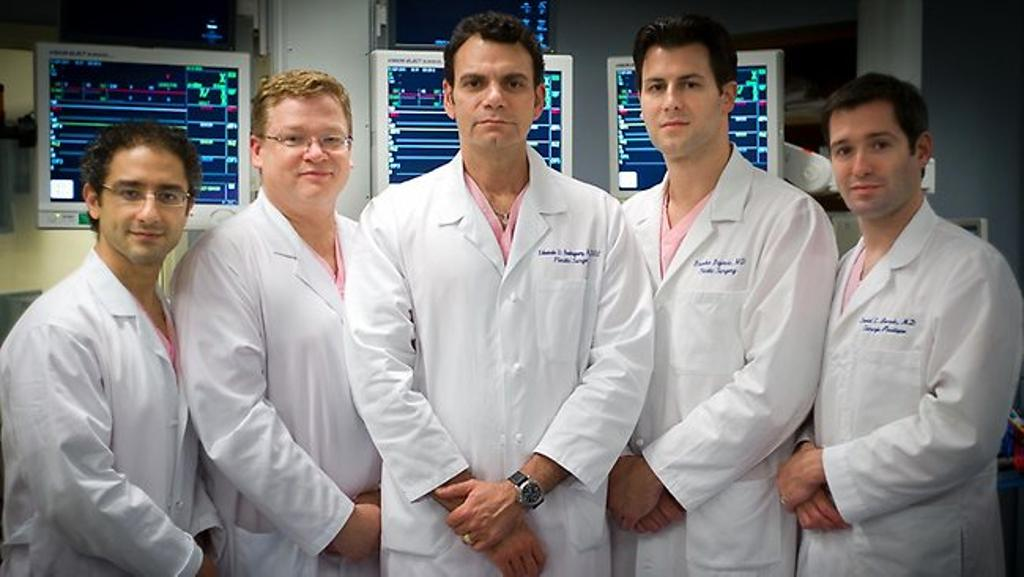face: (108, 144, 186, 264), (456, 38, 538, 150), (264, 94, 344, 204), (828, 110, 908, 210), (642, 46, 716, 150)
